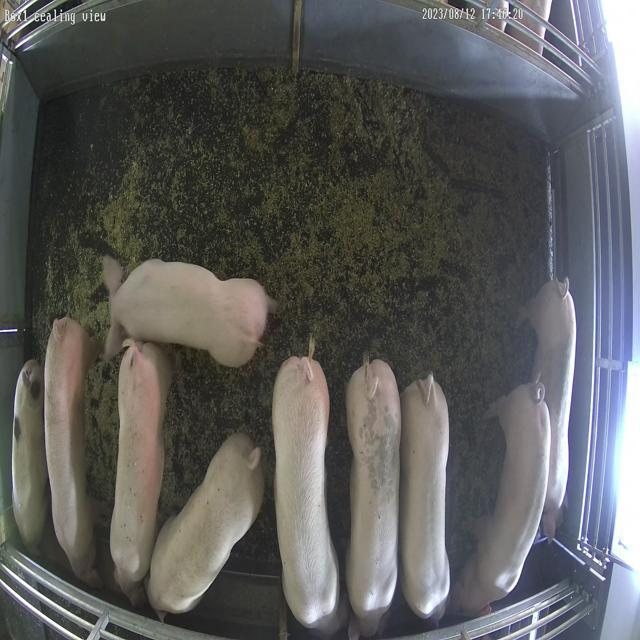Dirt: (29, 65, 548, 640)
Pig: (147, 434, 264, 614), (102, 256, 272, 368), (274, 350, 340, 630), (110, 340, 172, 606), (347, 360, 402, 638), (44, 317, 100, 588), (400, 375, 451, 620), (11, 360, 48, 552)
